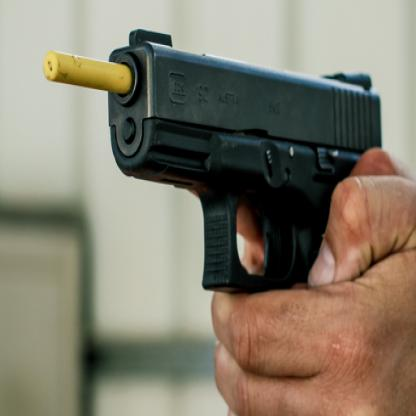gun: (102, 14, 398, 331)
